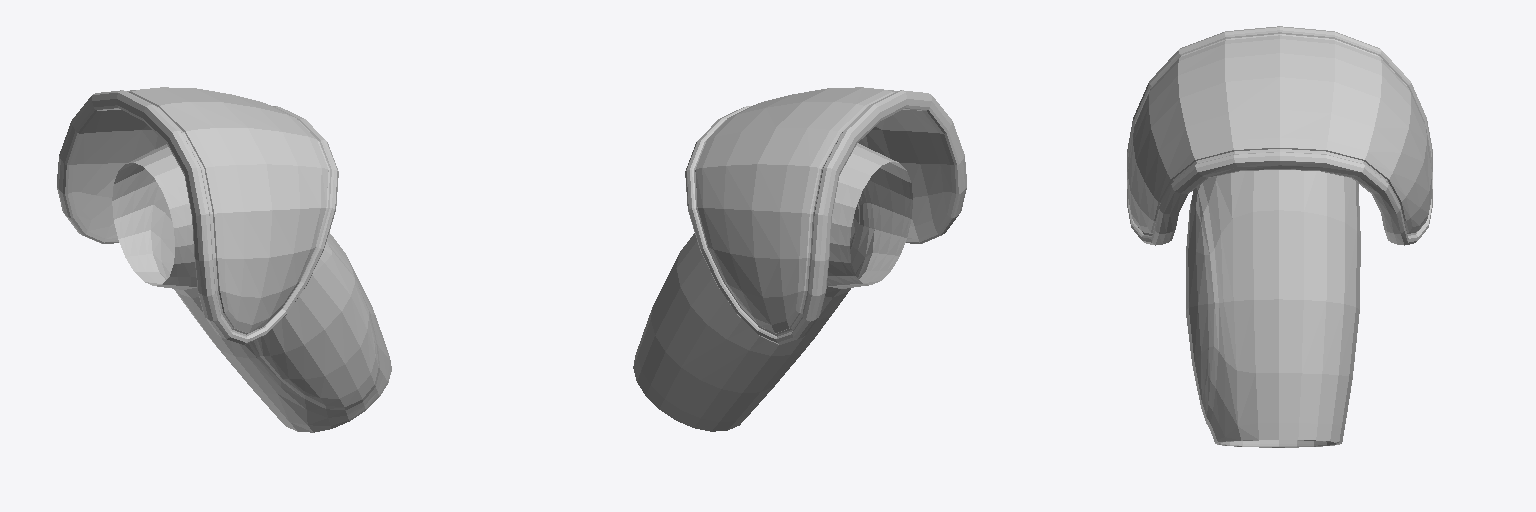
The model's file is left_shoulder.obj.
The picture shows the model from 3 angles: view 1: azimuth 30°, elevation 25°; view 2: azimuth 150°, elevation 25°; view 3: azimuth 270°, elevation 25°; orthographic projection.
Parts seen in each view (by area): view 1: transform7 _Robot_l2:Body; view 2: transform7 _Robot_l2:Body; view 3: transform7 _Robot_l2:Body.
Boxes of the visible parts, x1,y1,x2,y2 form: transform7 _Robot_l2:Body: [57, 87, 391, 432]; transform7 _Robot_l2:Body: [633, 87, 966, 431]; transform7 _Robot_l2:Body: [1127, 26, 1432, 447].
Size of the model in its own units: 4.18 by 5.62 by 4.4.